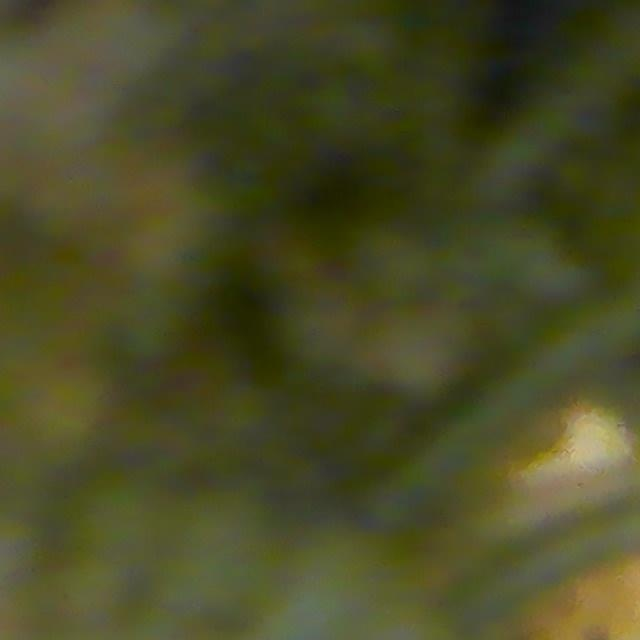SeaGrape: (279, 529, 379, 640), (168, 507, 259, 615), (64, 491, 163, 583)
